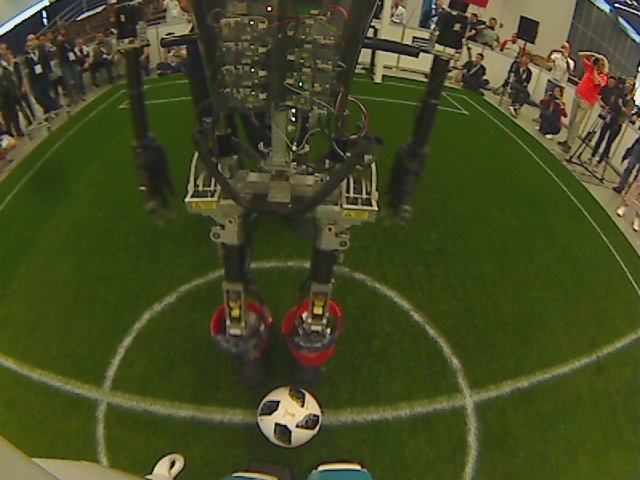ball: (254, 382, 328, 451)
